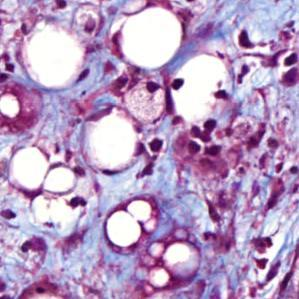steatosis: (87, 105, 141, 175)
